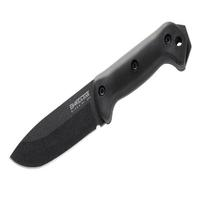knife: (10, 18, 190, 170)
